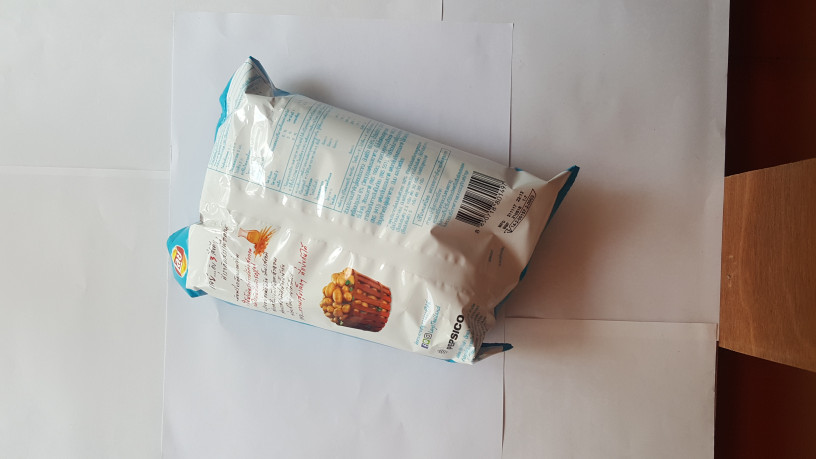lays-onion: (158, 46, 590, 368)
